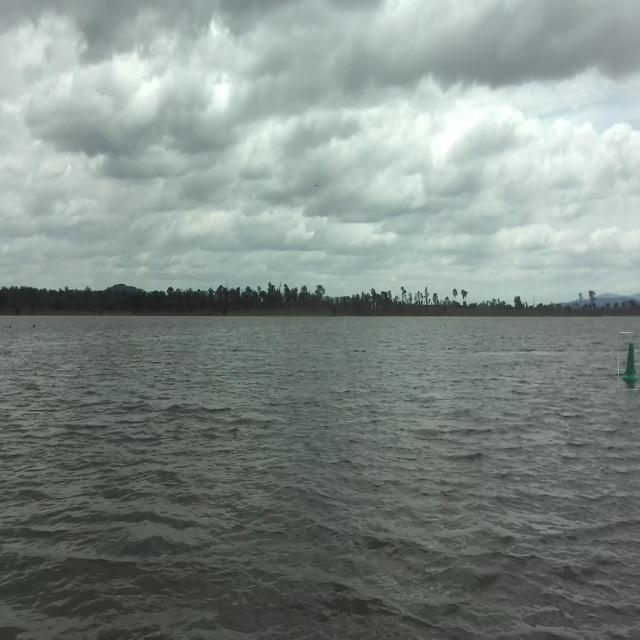Green_Buoy: (620, 334, 638, 398)
